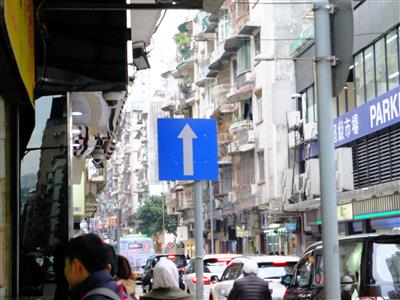oneway: (148, 109, 225, 184)
